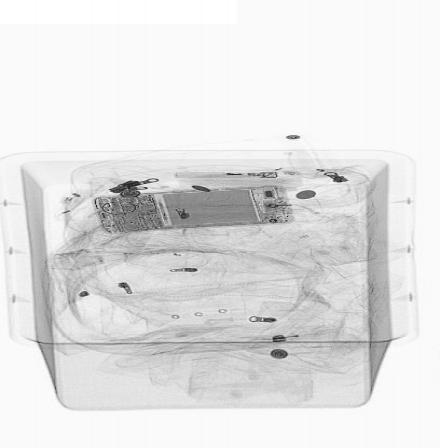Lighter: (174, 172, 279, 179)
